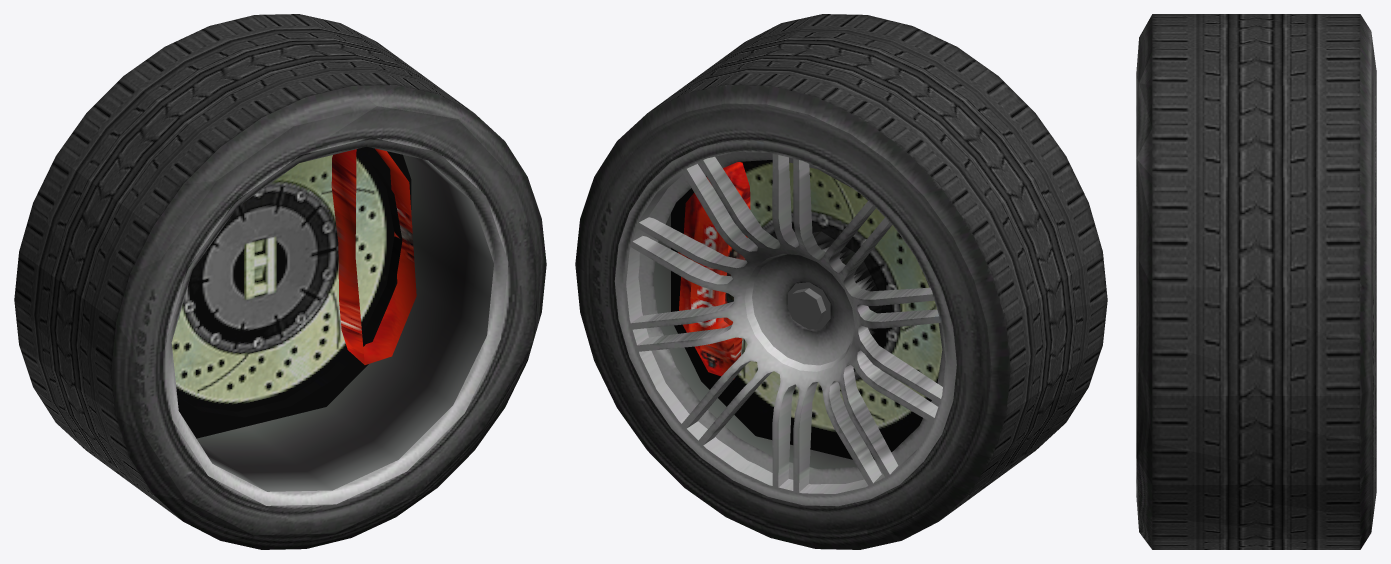
File: llanta_izq.obj
The picture shows the model from 3 angles, left to right: view 1: azimuth 30°, elevation 25°; view 2: azimuth 150°, elevation 25°; view 3: azimuth 270°, elevation 25°; orthographic projection. The views are drawn at different scales.
Visible parts, largest first — view 1: llanta_01; view 2: llanta_01; view 3: llanta_01.
Part boxes in pixels (left/top/right/bottom): llanta_01: left=14, top=14, right=546, bottom=549; llanta_01: left=575, top=14, right=1107, bottom=549; llanta_01: left=1136, top=14, right=1376, bottom=549.
Bounding box in the file's own units: 2.13 × 2.11 × 0.9484.
Materials: 6 (5 with a texture image).
